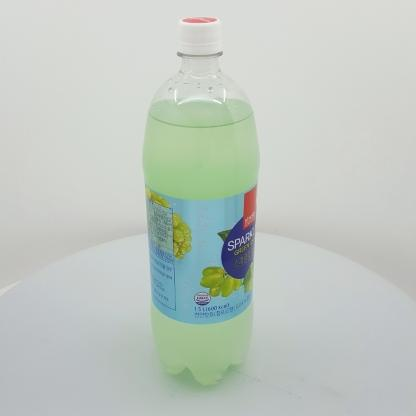---------------: (142, 17, 260, 386)
